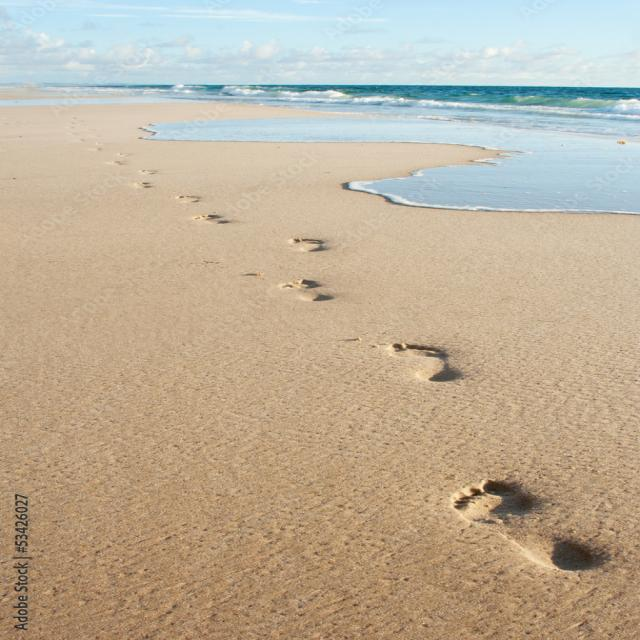human_footprint: (100, 13, 616, 613)
